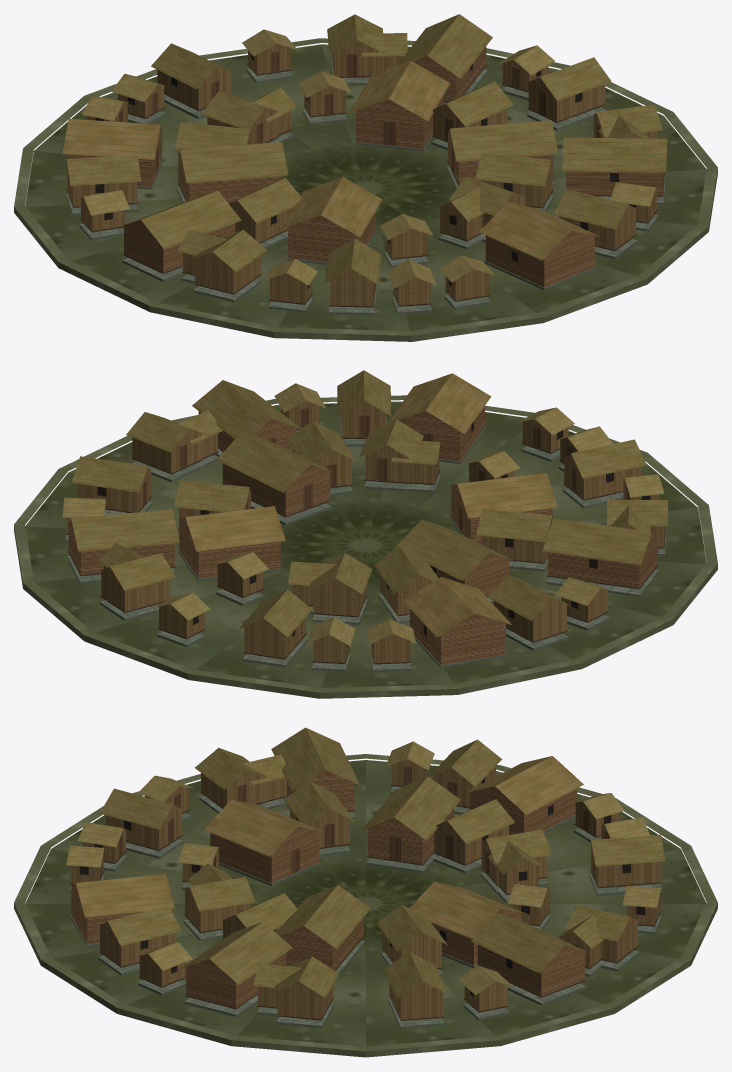
Rendered from ae_jungle_village_large_lod2.glb.
3 views of the same model, one above another, from view 1: azimuth 30°, elevation 25°; view 2: azimuth 150°, elevation 25°; view 3: azimuth 270°, elevation 25° (orthographic).
Visible parts, largest first — view 1: ae_jungle_village_large_lod2; view 2: ae_jungle_village_large_lod2; view 3: ae_jungle_village_large_lod2.
Boxes of the visible parts, x1,y1,x2,y2 form: ae_jungle_village_large_lod2: (14, 14, 717, 341); ae_jungle_village_large_lod2: (14, 370, 717, 698); ae_jungle_village_large_lod2: (14, 727, 717, 1057).
Bounding box in the file's own units: 1.9 × 0.1715 × 1.9.
1 material, 1 textured.
